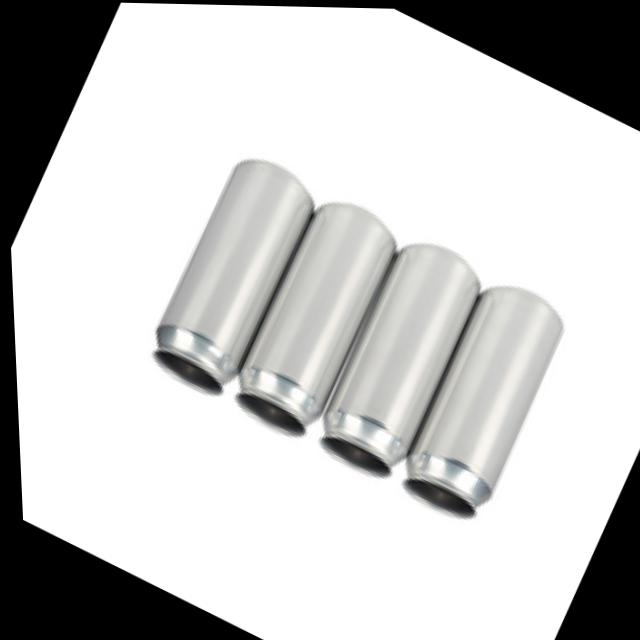aluminum_soda_cans: (300, 228, 494, 490), (216, 184, 413, 442), (384, 278, 573, 527), (132, 163, 320, 409)
